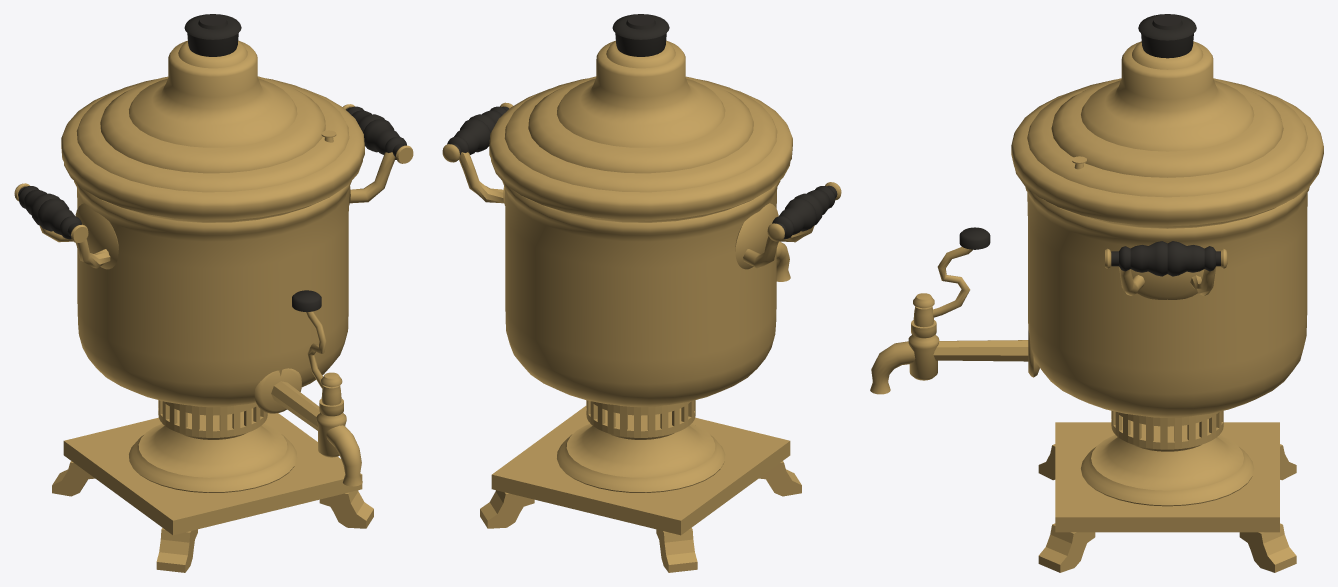
The model's file is NEW458_samovar_LOD2.glb.
3 views of the same model, side by side, from view 1: azimuth 30°, elevation 25°; view 2: azimuth 150°, elevation 25°; view 3: azimuth 270°, elevation 25° (orthographic). The views are drawn at different scales.
Visible parts, largest first — view 1: Reservoir_closed, Stepped_lid_closed, Square_base_plate, Pedestal_turned, Perforated_neck_24_open_vents, Top_cap_fixed, Turned_handle_grip_-1, Turned_handle_grip_1, Handle_leaf_plate_-1, Foot_-1_-1, Valve_fixed_body, Foot_1_-1 (+8 smaller); view 2: Reservoir_closed, Stepped_lid_closed, Square_base_plate, Pedestal_turned, Perforated_neck_24_open_vents, Top_cap_fixed, Turned_handle_grip_-1, Turned_handle_grip_1, Handle_leaf_plate_-1, Foot_-1_1, Foot_1_1, Handle_bracket_1_1 (+3 smaller); view 3: Reservoir_closed, Stepped_lid_closed, Square_base_plate, Pedestal_turned, Perforated_neck_24_open_vents, Turned_handle_grip_1, Top_cap_fixed, Tap_supply_shank, Valve_fixed_body, Foot_1_-1, Foot_1_1, Handle_leaf_plate_1 (+3 smaller).
Boxes of the visible parts, x1,y1,x2,y2 form: Reservoir_closed: [74, 181, 351, 407]; Stepped_lid_closed: [61, 40, 364, 222]; Square_base_plate: [63, 413, 362, 535]; Pedestal_turned: [129, 406, 297, 492]; Perforated_neck_24_open_vents: [158, 400, 267, 437]; Top_cap_fixed: [184, 14, 241, 56]; Turned_handle_grip_-1: [18, 186, 81, 239]; Turned_handle_grip_1: [346, 106, 406, 159]; Handle_leaf_plate_-1: [75, 203, 118, 269]; Foot_-1_-1: [156, 528, 197, 572]; Valve_fixed_body: [316, 372, 346, 457]; Foot_1_-1: [319, 490, 373, 528]; Reservoir_closed: [502, 181, 780, 407]; Stepped_lid_closed: [489, 40, 792, 222]; Square_base_plate: [491, 406, 790, 535]; Pedestal_turned: [557, 406, 725, 492]; Perforated_neck_24_open_vents: [586, 400, 695, 437]; Top_cap_fixed: [612, 14, 669, 56]; Turned_handle_grip_-1: [772, 185, 837, 239]; Turned_handle_grip_1: [447, 106, 509, 159]; Handle_leaf_plate_-1: [735, 203, 778, 269]; Foot_-1_1: [656, 528, 697, 572]; Foot_1_1: [480, 490, 534, 528]; Handle_bracket_1_1: [459, 152, 503, 203]; Reservoir_closed: [1025, 186, 1309, 417]; Stepped_lid_closed: [1011, 41, 1323, 228]; Square_base_plate: [1055, 422, 1279, 532]; Pedestal_turned: [1081, 417, 1254, 506]; Perforated_neck_24_open_vents: [1111, 410, 1223, 449]; Turned_handle_grip_1: [1111, 241, 1220, 276]; Top_cap_fixed: [1138, 14, 1196, 58]; Tap_supply_shank: [933, 340, 1028, 361]; Valve_fixed_body: [908, 293, 939, 380]; Foot_1_-1: [1038, 523, 1095, 572]; Foot_1_1: [1239, 523, 1296, 572]; Handle_leaf_plate_1: [1131, 269, 1203, 299].
Bounding box in the file's own units: 0.3302 × 0.4318 × 0.3556.
